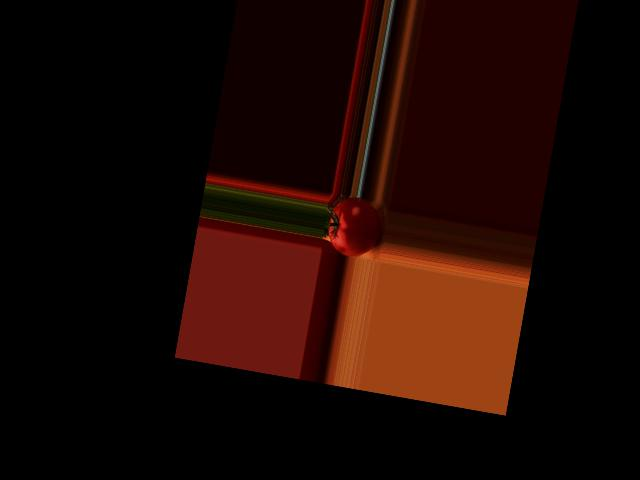tomato: (324, 194, 384, 260)
